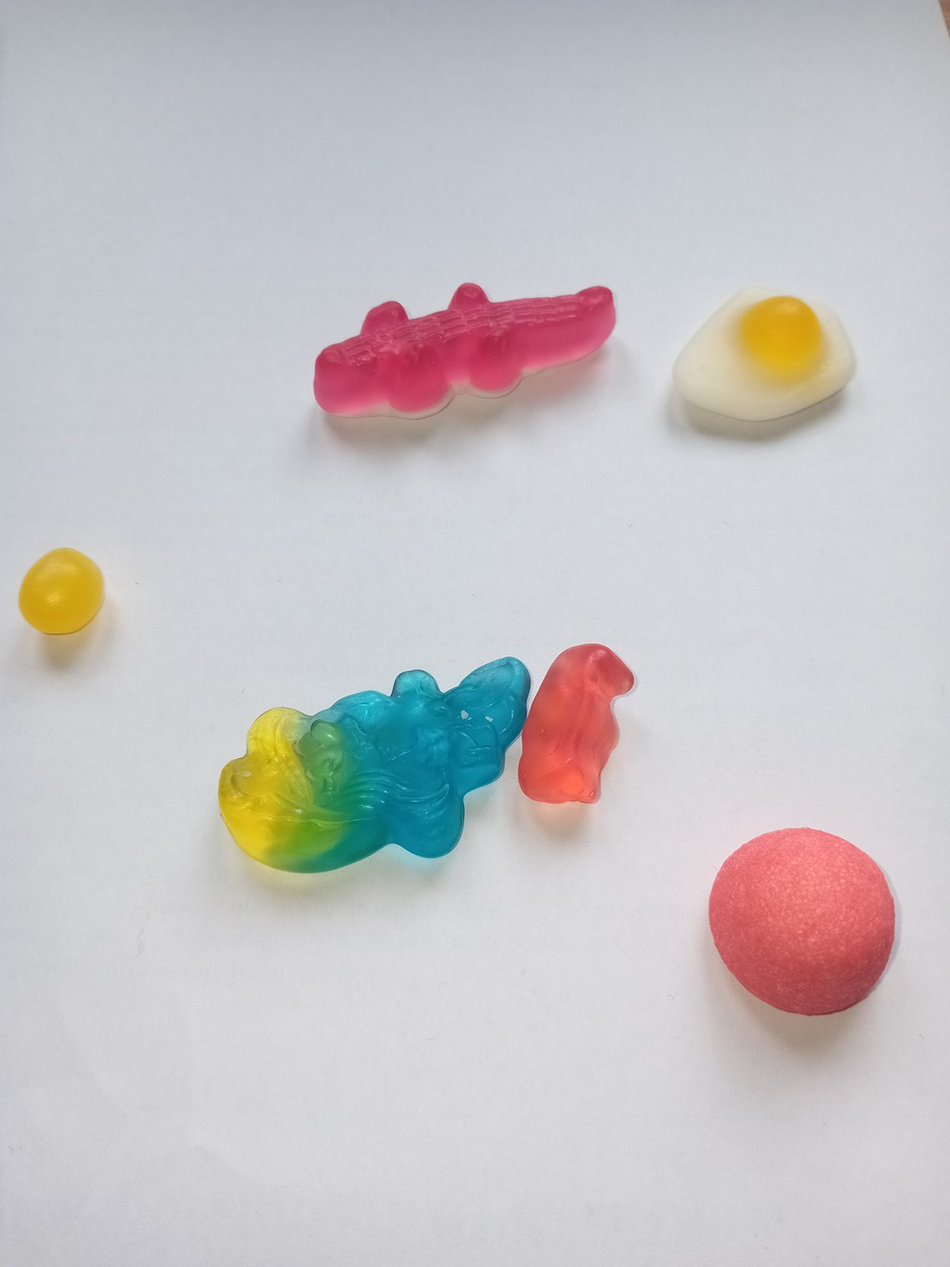crocodile_rouge: (309, 272, 623, 423)
dragibus_jaune: (13, 544, 108, 639)
oeuf_oeuf: (666, 283, 864, 430)
ourson_orangeFonce: (518, 639, 635, 808)
schtroumpf_bleu-jaune: (214, 651, 533, 876)
tagada_fraise: (704, 824, 900, 1017)
